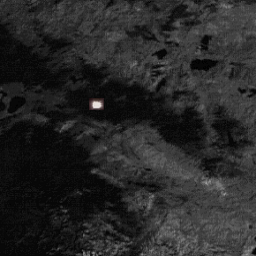Target: (90, 100, 103, 110)
